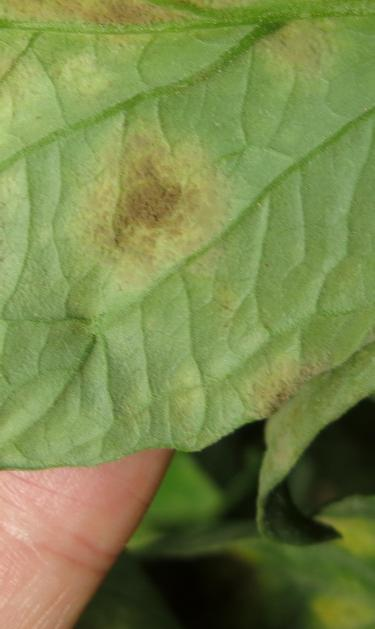Tomato mold leaf: (0, 0, 375, 464)
